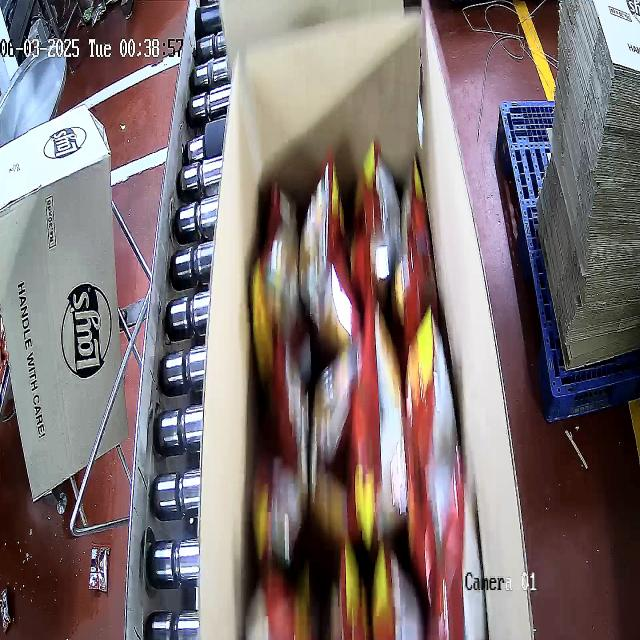MASALA: (247, 138, 466, 638)
